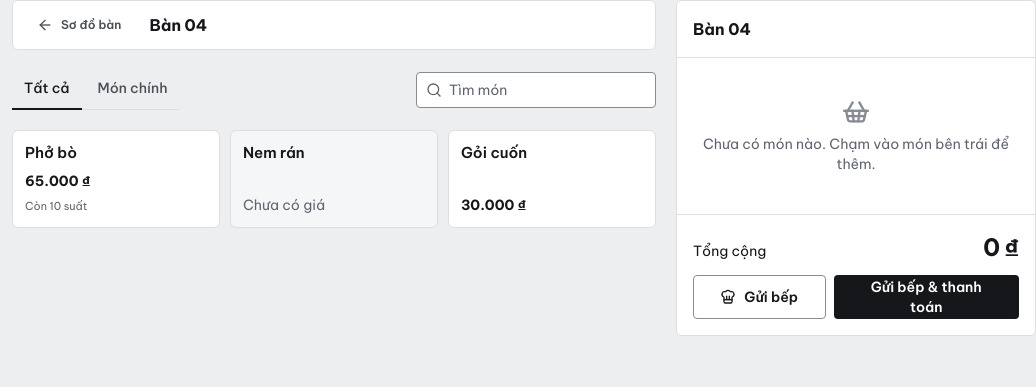
it: OrderStep › totals the cart as dishes are added
Click the button "Phở bò 65.000 ₫ Còn 10 suất" at (116, 179), box [12,130,220,228]
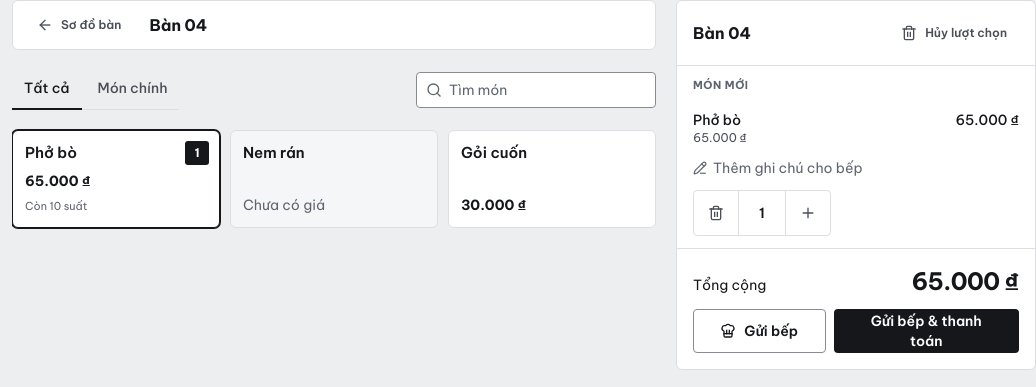
Expected: the text with test id "cart-total" reads "65.000 ₫", [911,266,1019,296]
Click the button "Phở bò 65.000 ₫ Còn 10 suất 1" at (116, 179), box [12,130,220,228]
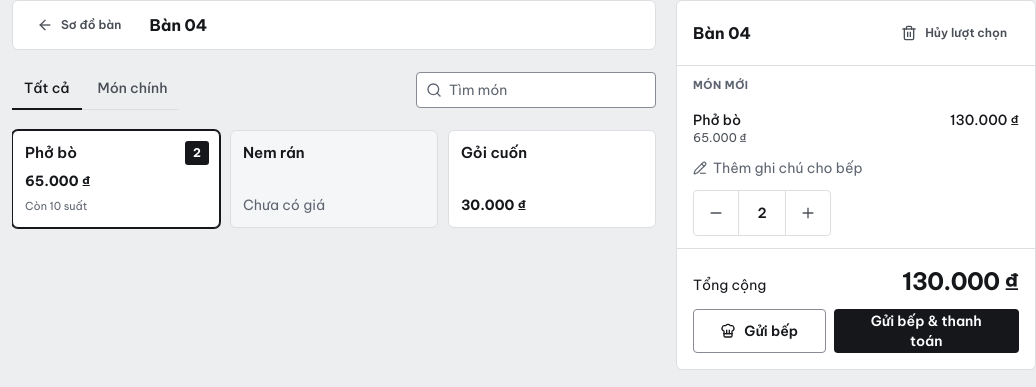
Expected: the text with test id "cart-total" reads "130.000 ₫", [902,266,1019,296]
